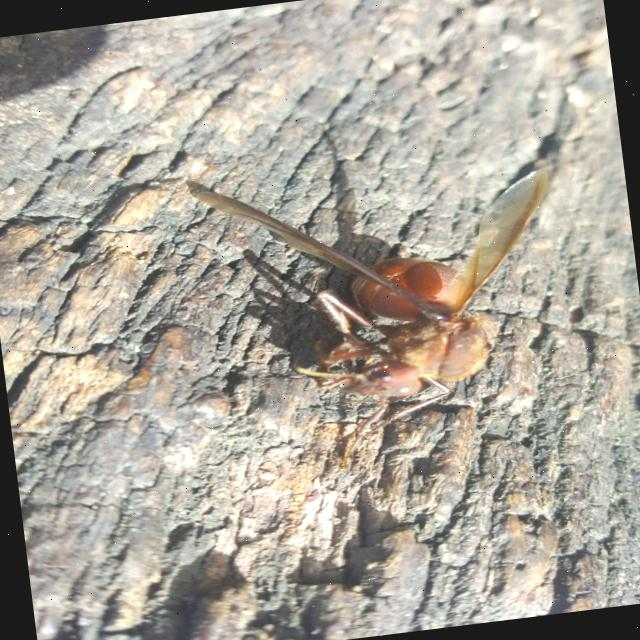Dead-Male-Alate: (184, 136, 580, 484)
